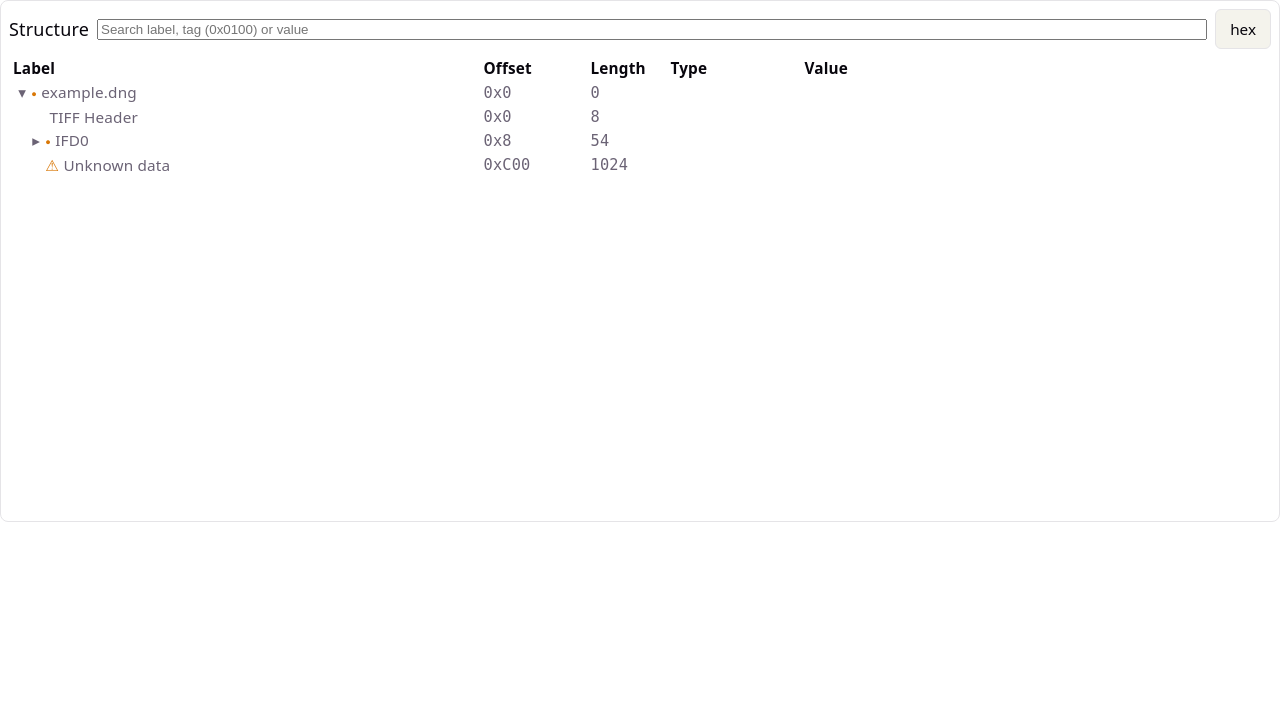
Test case: StructureTree › toggles decimal offsets
Click the button with test id "offset-toggle".
click(1243, 29)  # box [1215,9,1271,49]
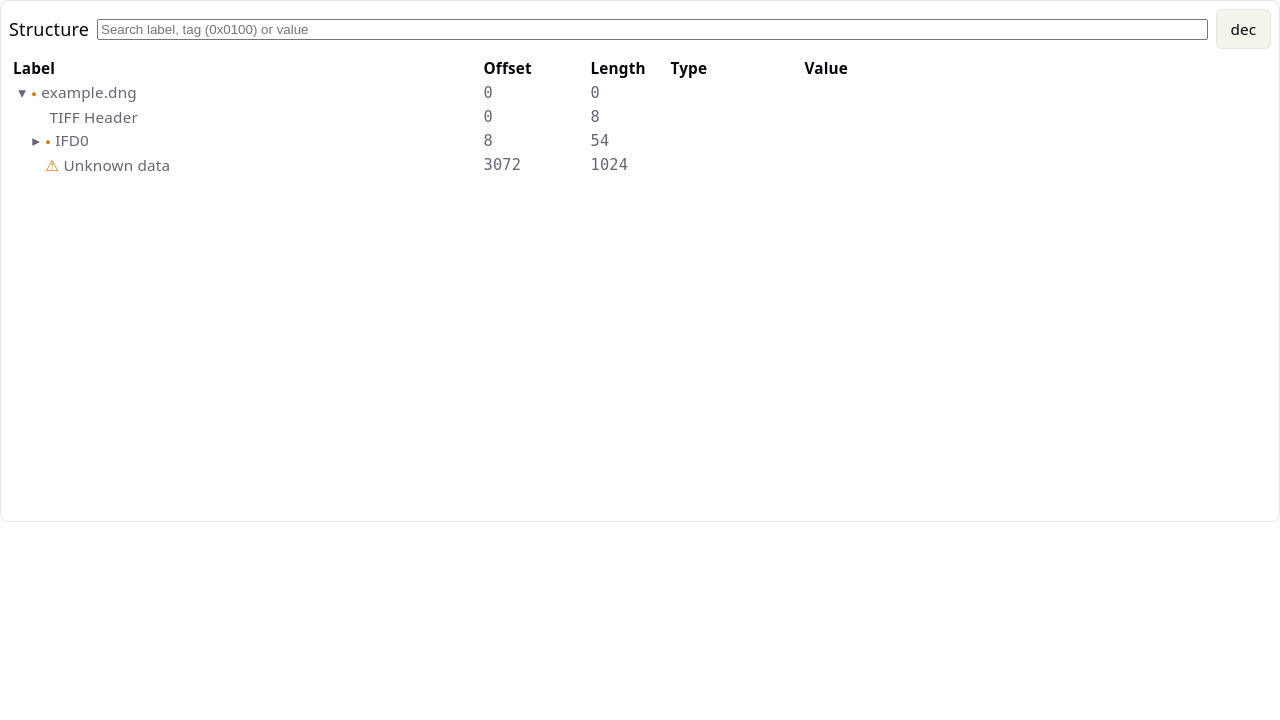
Expected: the text "0x8" is gone
